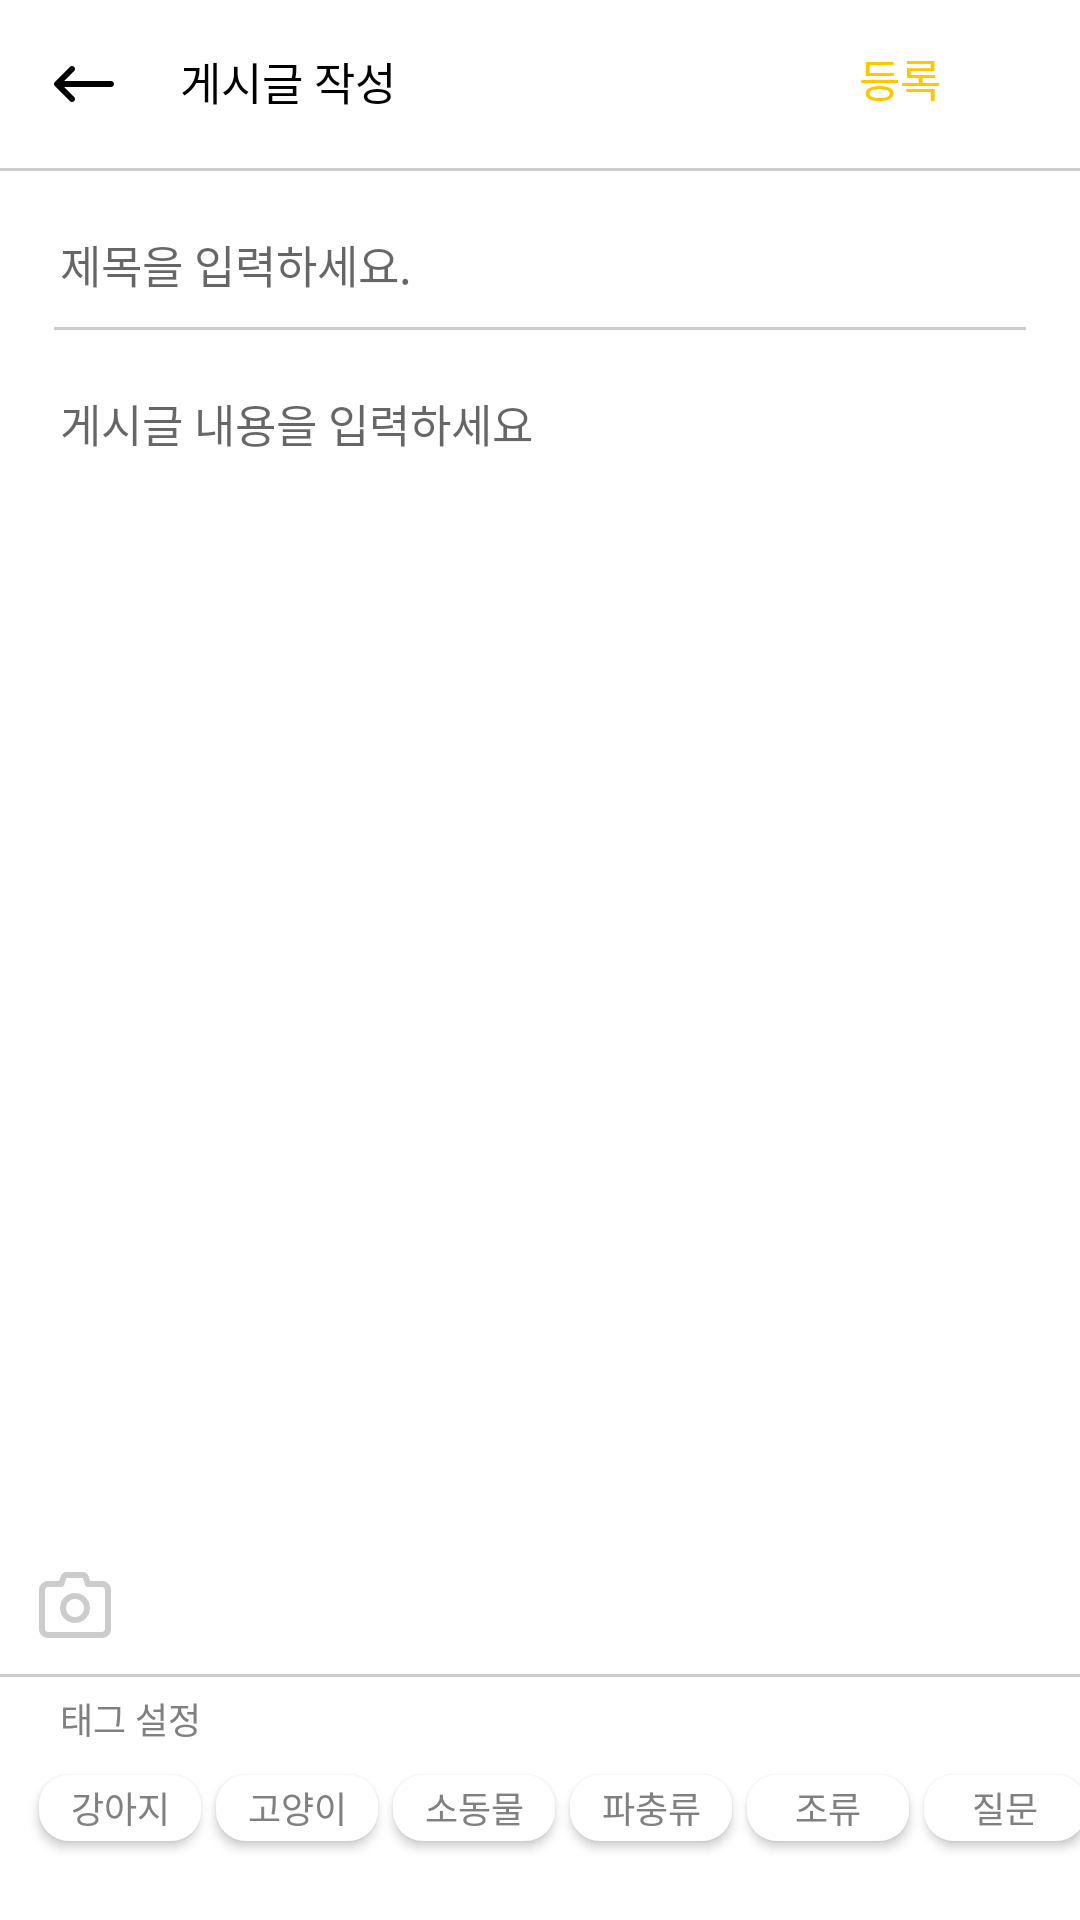

Icon click points for this 1080*1920 phone screenshot, format (x,y):
camera: (75,1605)
